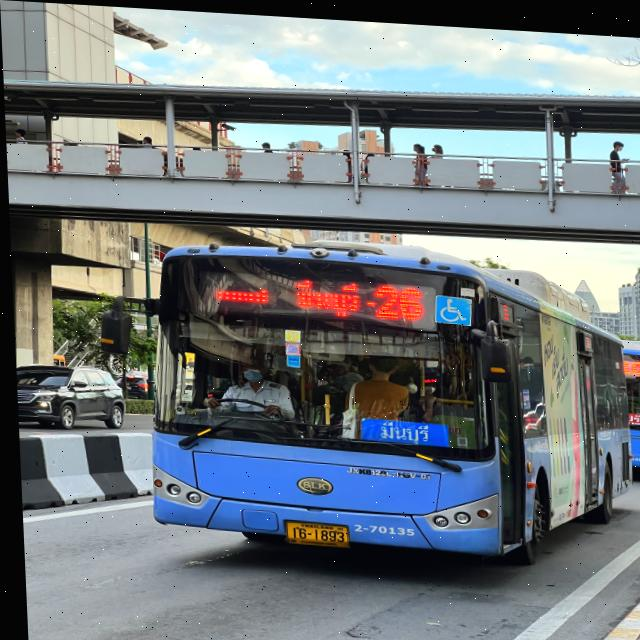BMTA-bus: (137, 237, 631, 565), (619, 329, 640, 472)
Bus-Line-Number: (367, 272, 428, 320), (621, 351, 640, 370)
Destination-Sign-Normal: (358, 412, 444, 443), (623, 405, 640, 420)
